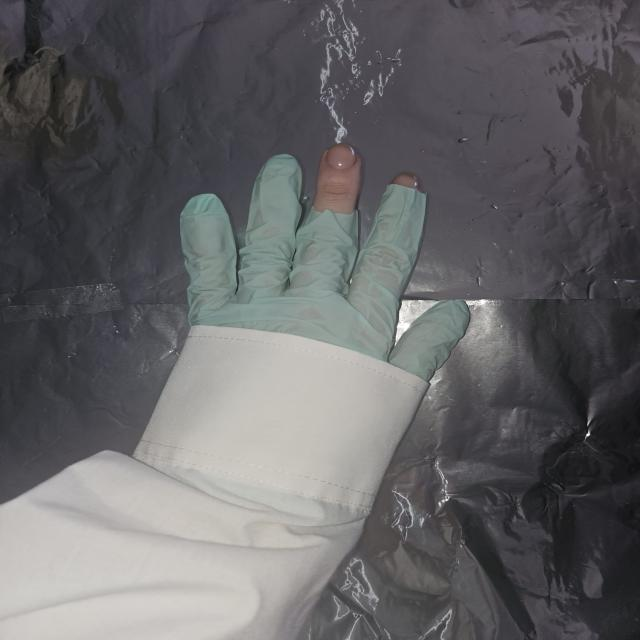gloves_damaged: (177, 142, 472, 385)
